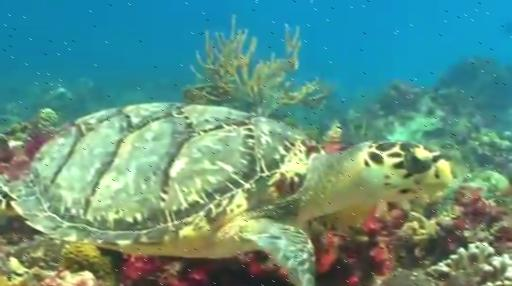Fish: (0, 102, 451, 285)
